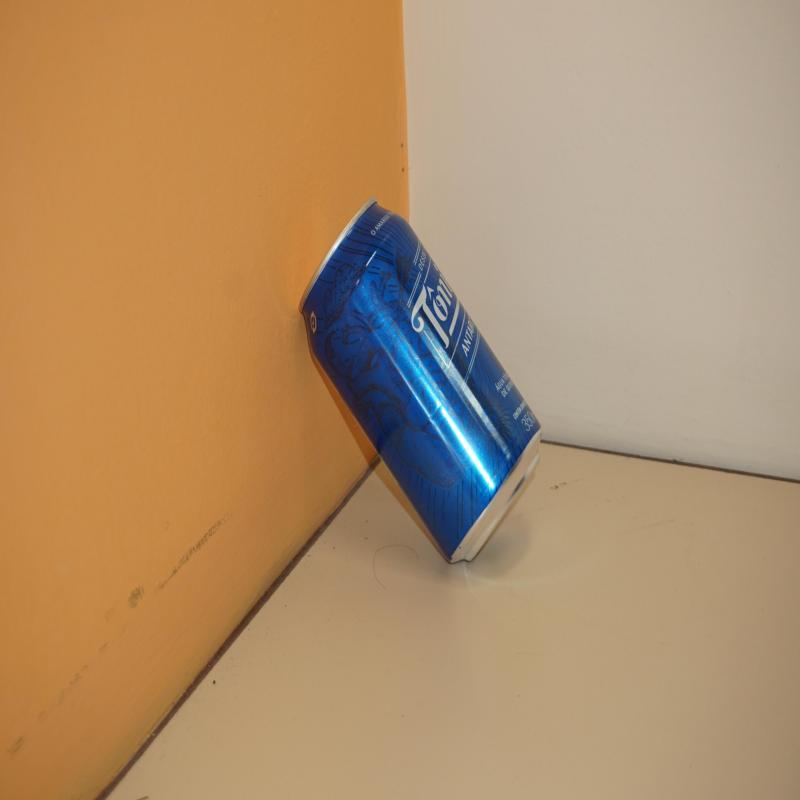Tonic: (298, 204, 542, 570)
